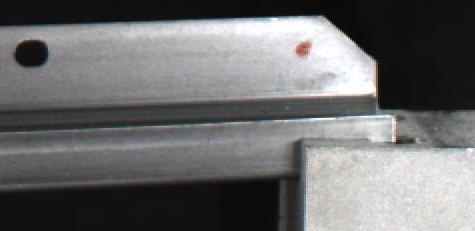cut: (243, 14, 401, 175)
holes: (12, 39, 50, 66)
